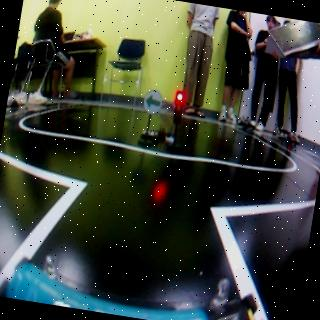left: (142, 90, 166, 115)
red: (166, 91, 186, 157)
